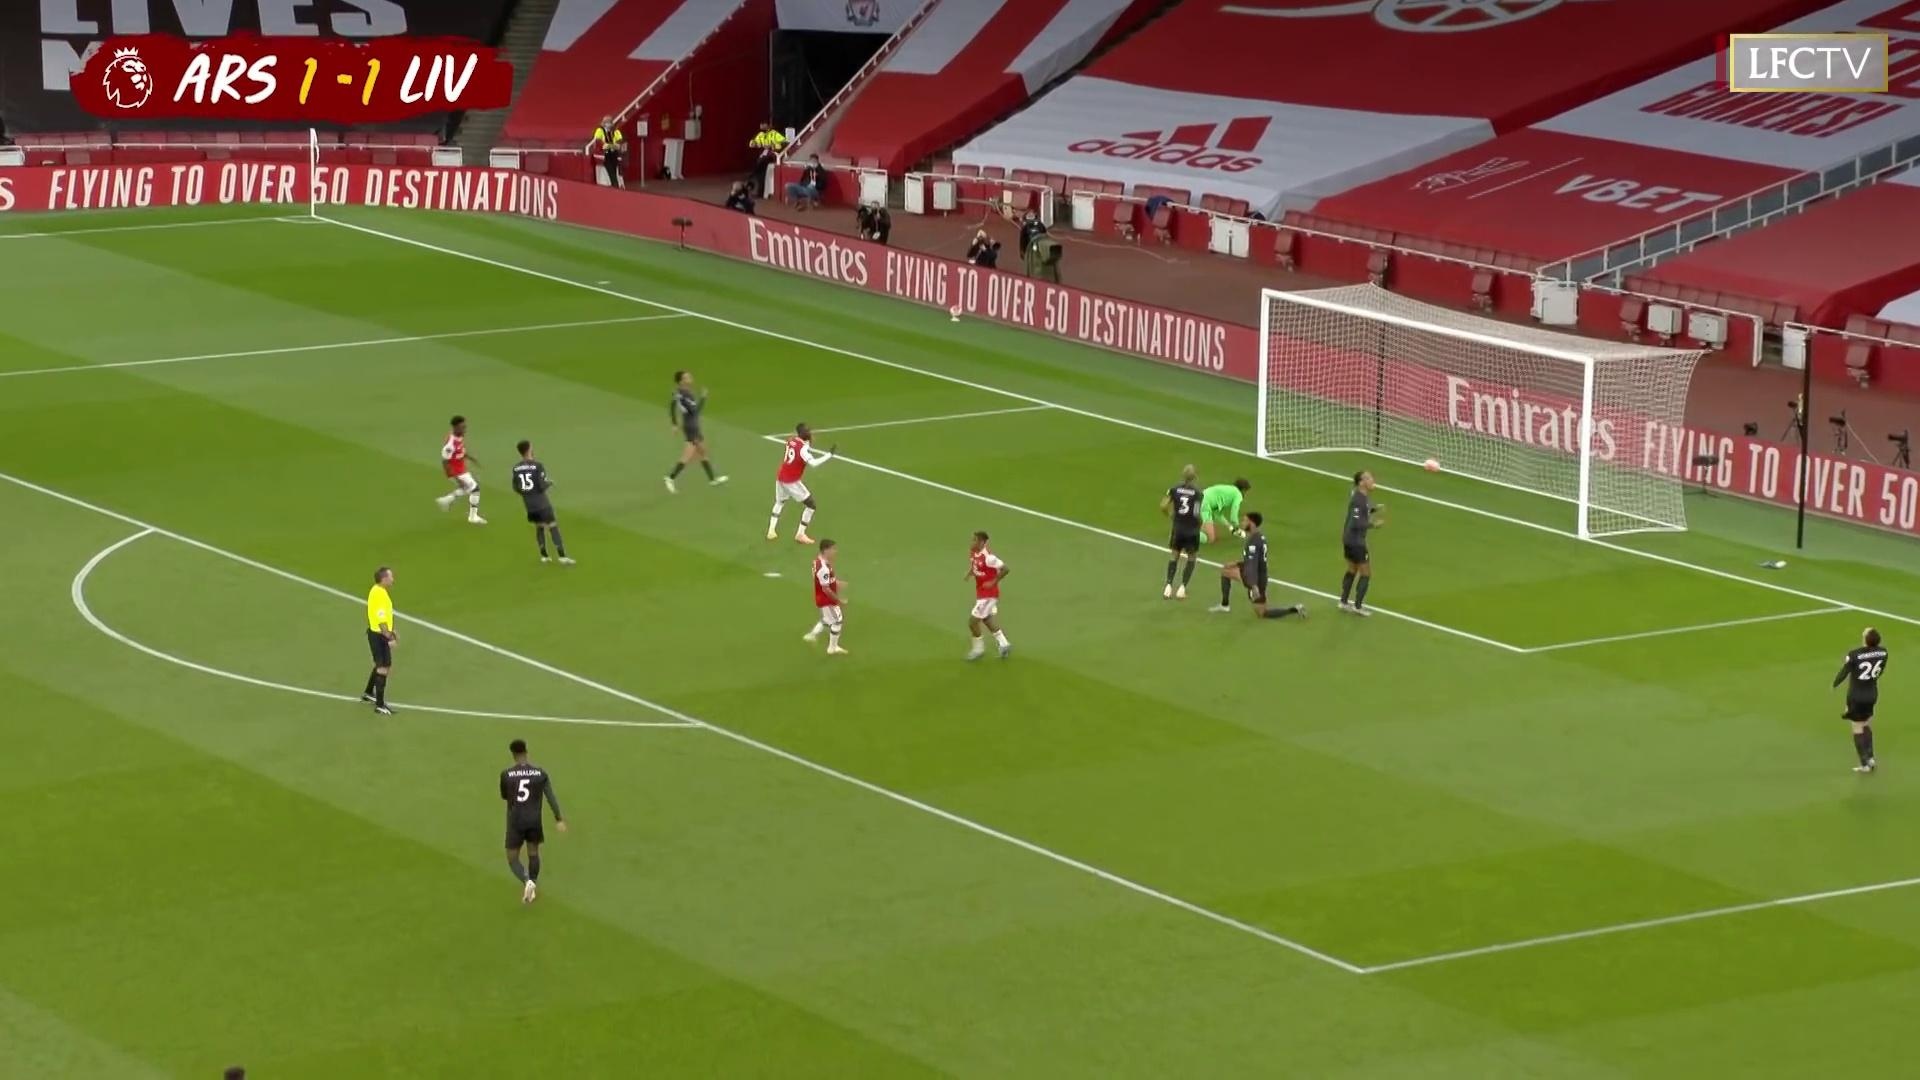ball: (1423, 456, 1440, 475)
